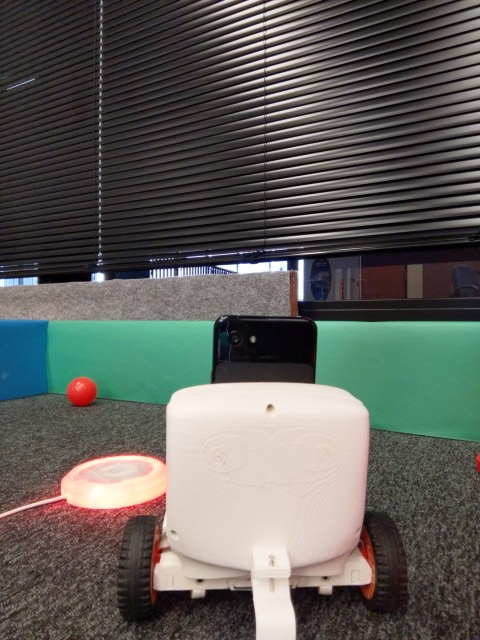bl: (120, 309, 415, 640)
r: (60, 446, 171, 514)
